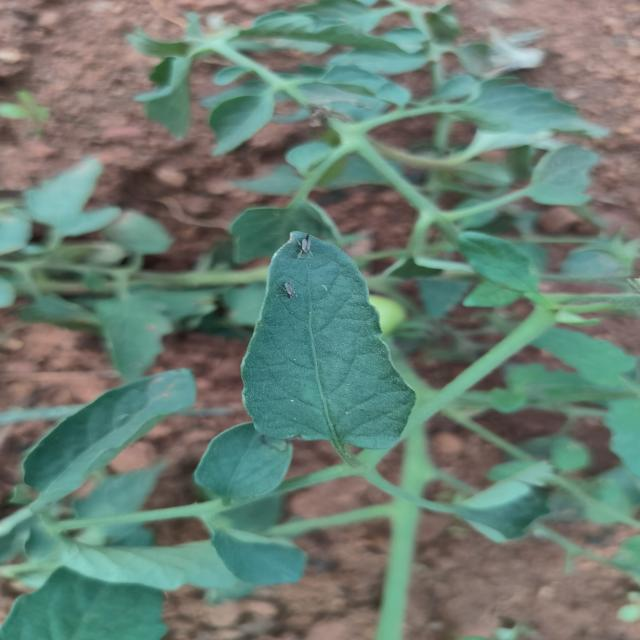tomato_healthy: (241, 231, 414, 460), (22, 369, 195, 511), (0, 568, 166, 640), (184, 410, 300, 510), (210, 529, 305, 586), (528, 144, 599, 205)
